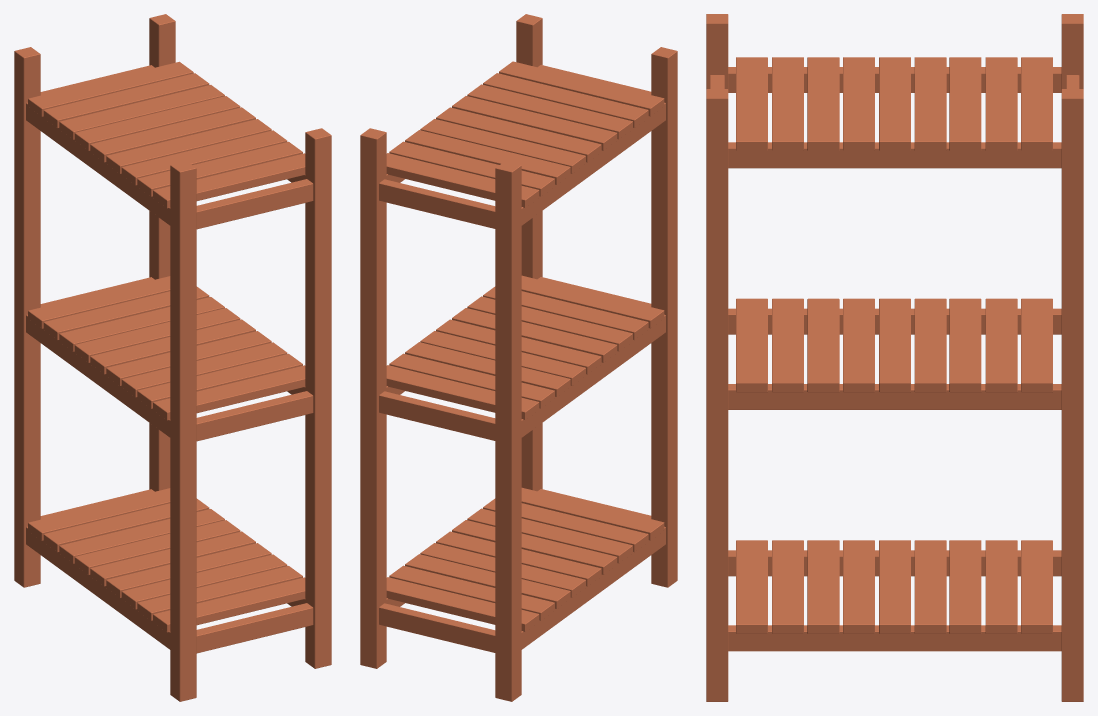
The model's file is cupeboard.fbx.
The picture shows the model from 3 angles, left to right: view 1: azimuth 30°, elevation 25°; view 2: azimuth 150°, elevation 25°; view 3: azimuth 270°, elevation 25°; orthographic projection. The views are drawn at different scales.
Parts seen in each view (by area): view 1: cupeboard; view 2: cupeboard; view 3: cupeboard.
Part boxes in pixels (x1,y1,x2,y2): cupeboard: (14, 14, 331, 701); cupeboard: (360, 14, 677, 701); cupeboard: (706, 14, 1083, 701).
Bounding box in the file's own units: 0.4504 × 1.5 × 0.85.
